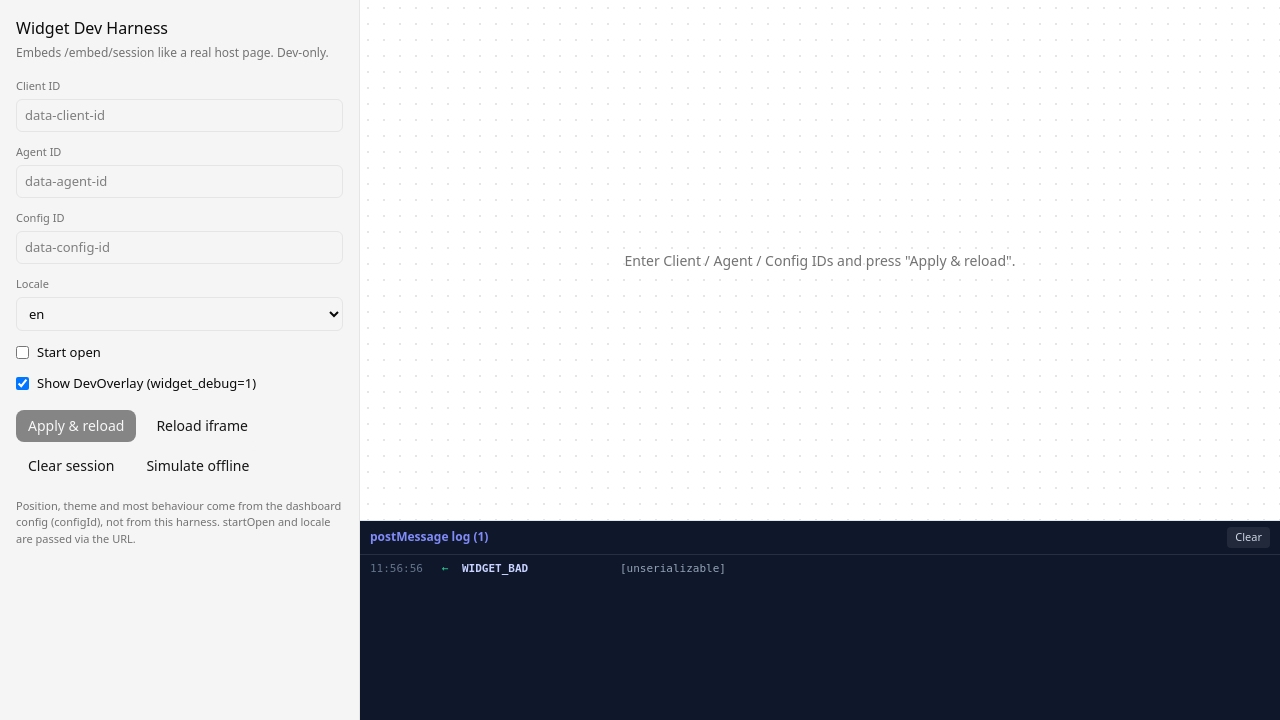
DevHarness › renders [unserializable] for circular payloads and clears the log
Expected: the text "[unserializable]" is shown, [620, 560, 726, 577]
Click the button "Clear".
click(1249, 537)  # box [1227, 527, 1270, 548]
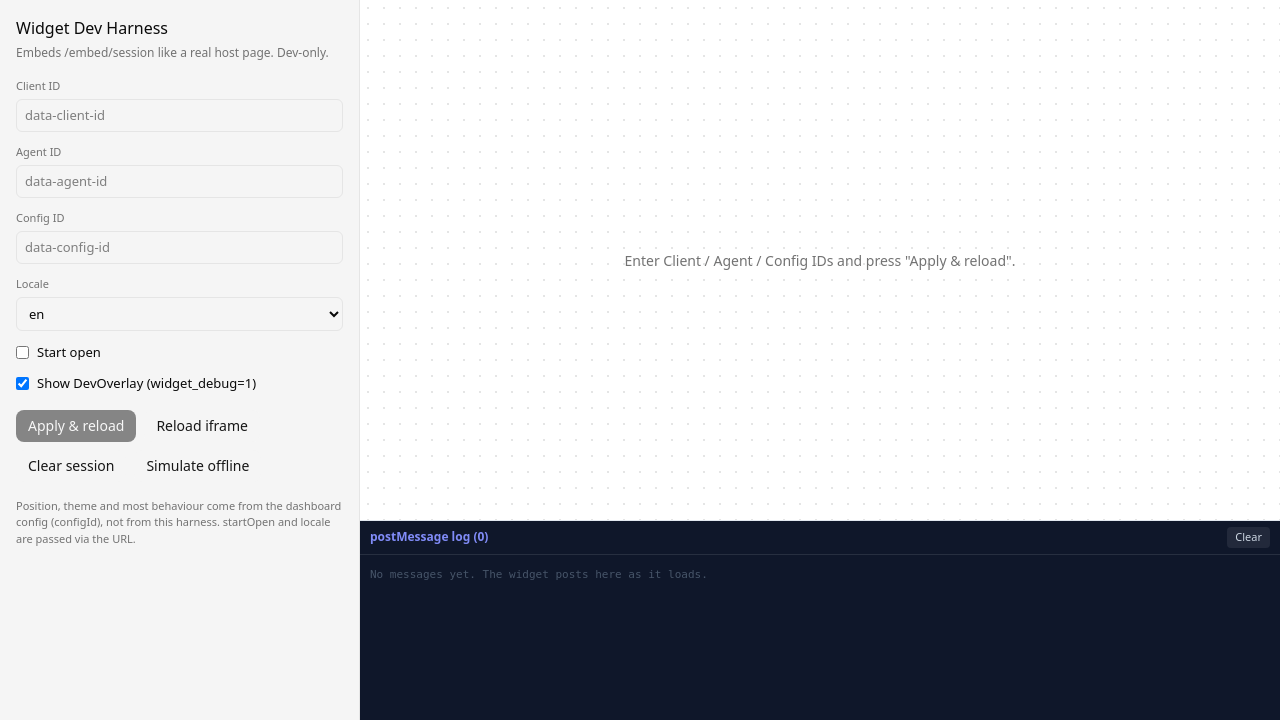
Expected: the text "No messages yet. The widget posts here as it loads." is shown, [370, 568, 708, 580]
